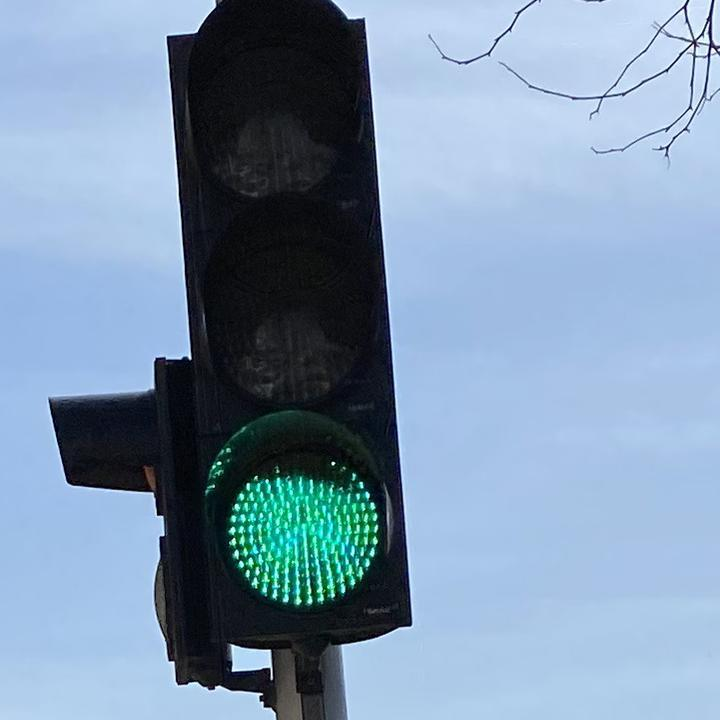green: (165, 4, 414, 650)
